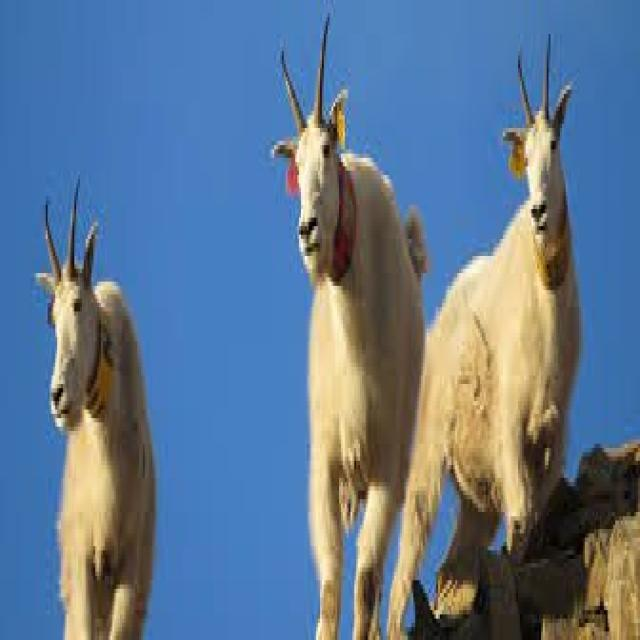Goat: (423, 43, 585, 640), (266, 17, 418, 640), (50, 196, 156, 640)
